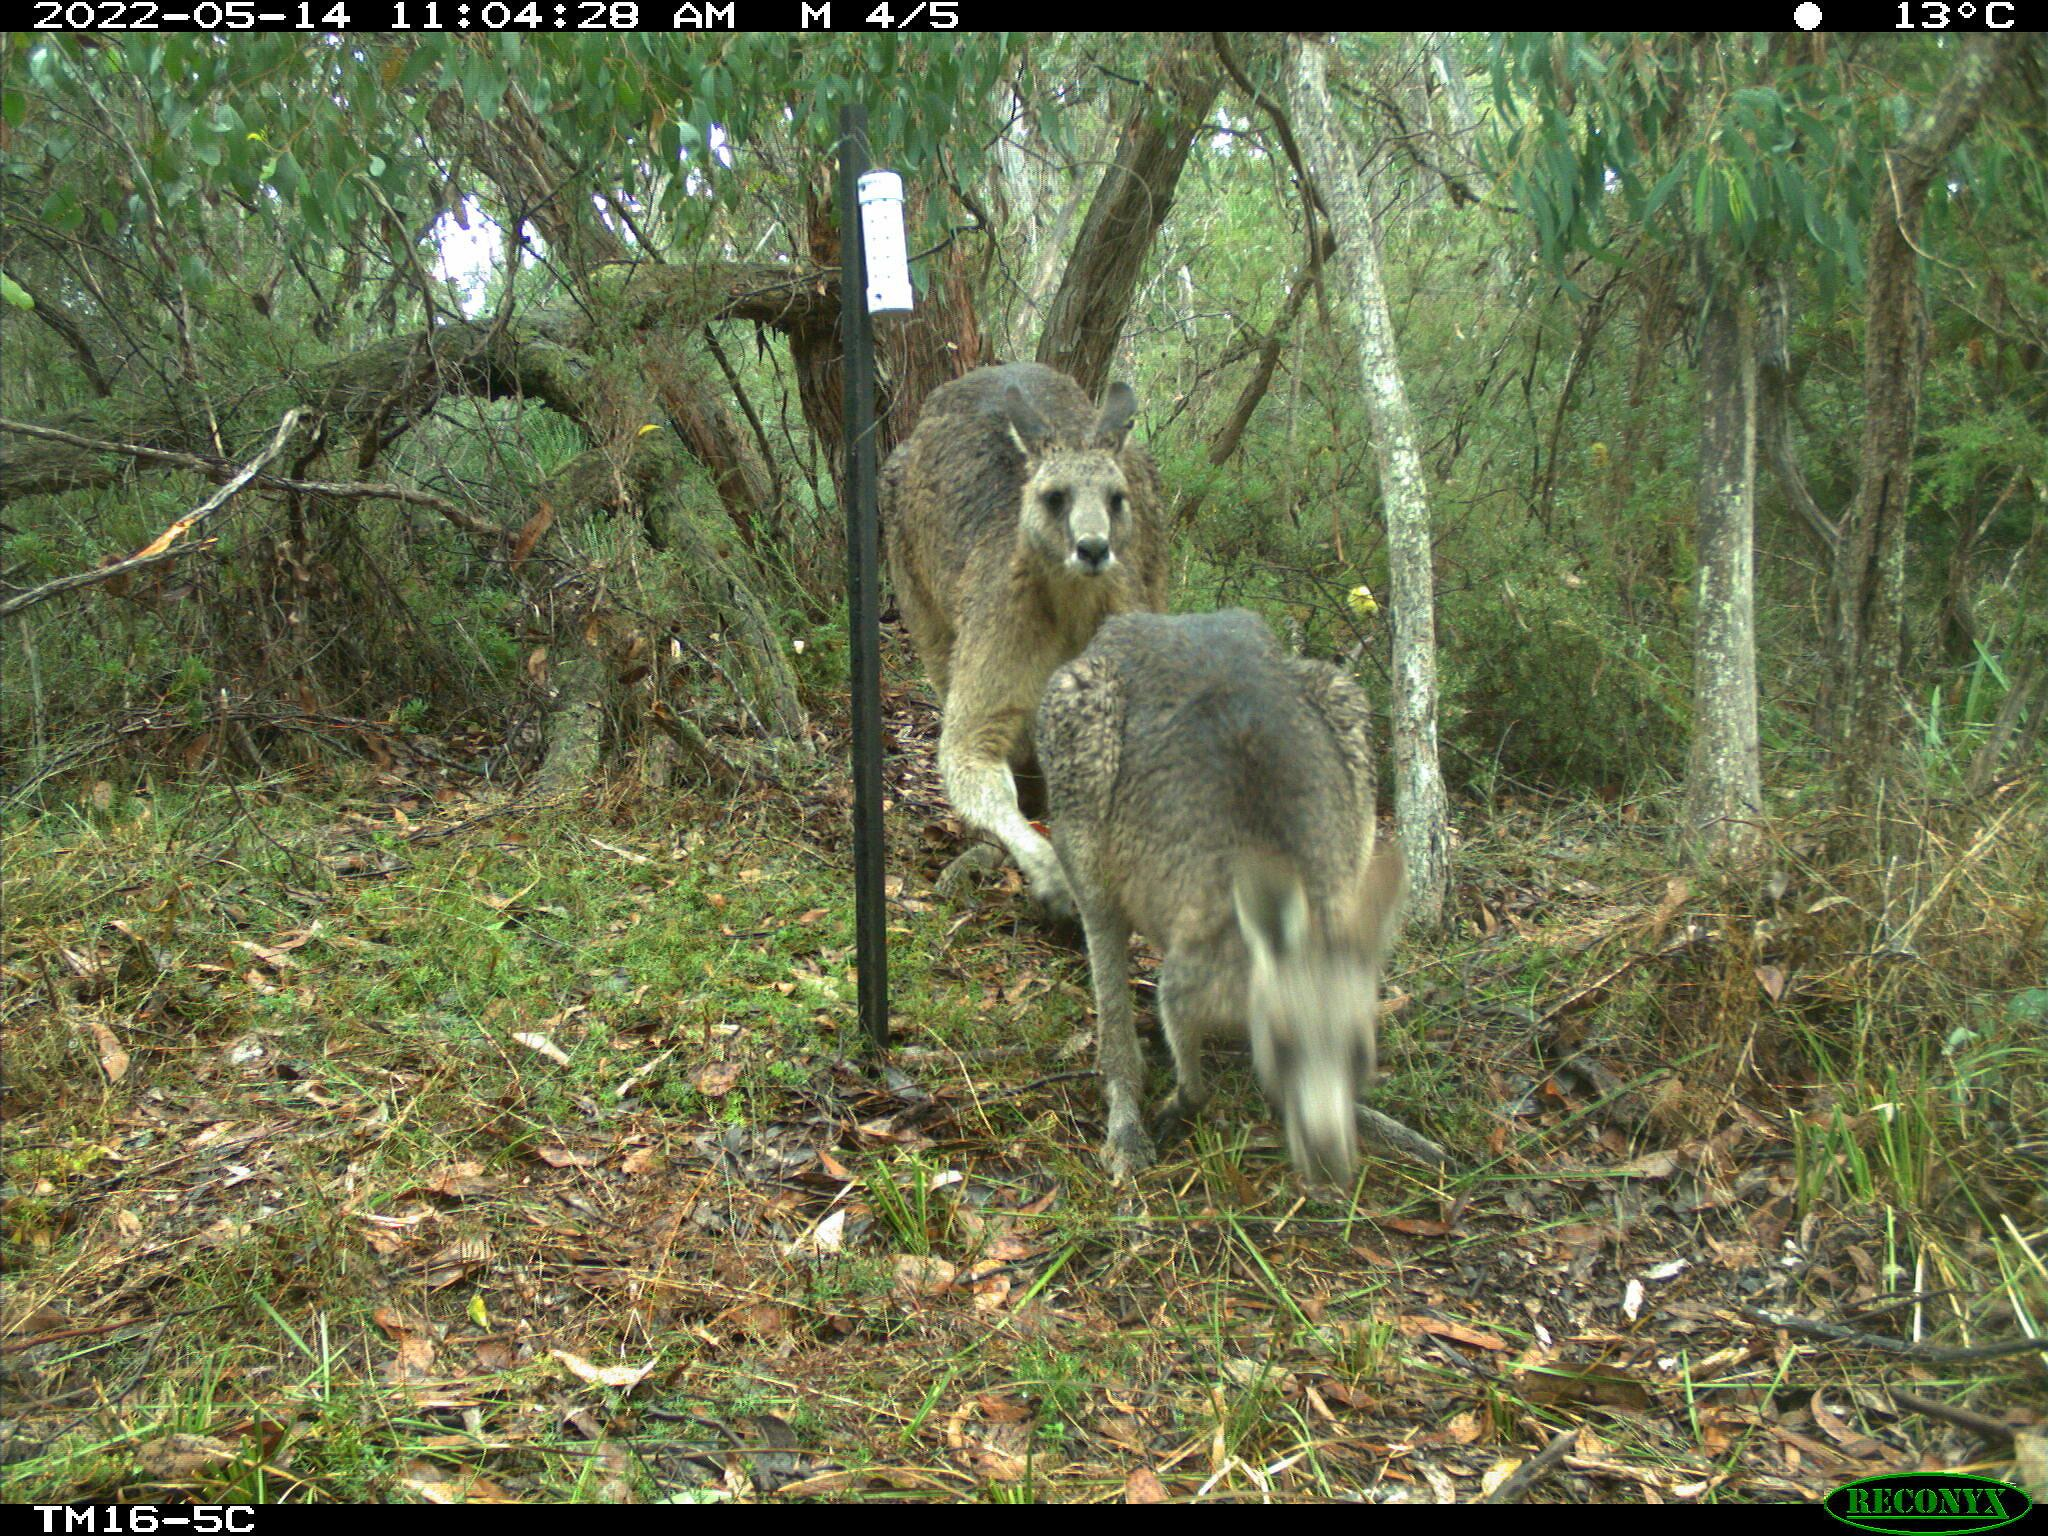Eastern grey kangaroo: (1045, 605, 1459, 1223), (879, 358, 1164, 941)
